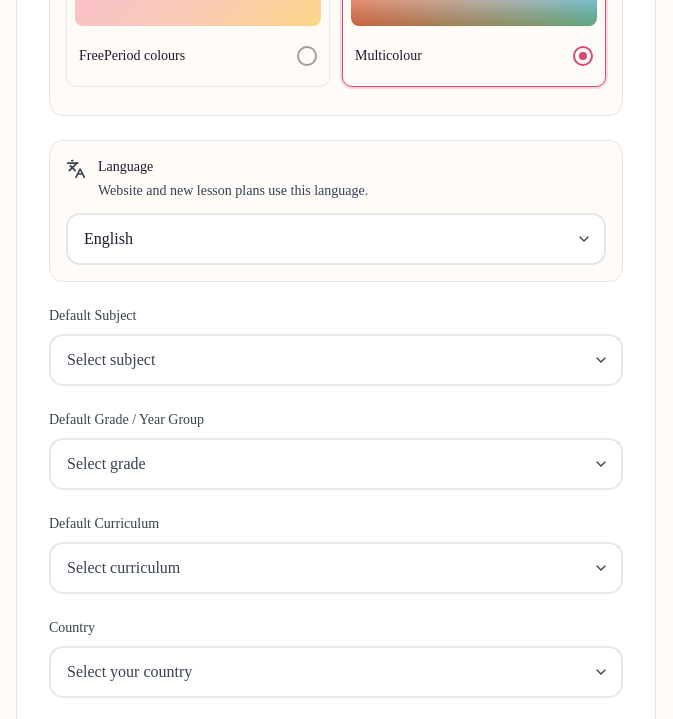
Test: SettingsClient — dirty save › enables Save after a field changes, then disables again after successful save
(page scrolled)
Click the button named "default subject".
click(111, 360)  # box x1=49 y1=334 x2=623 y2=386
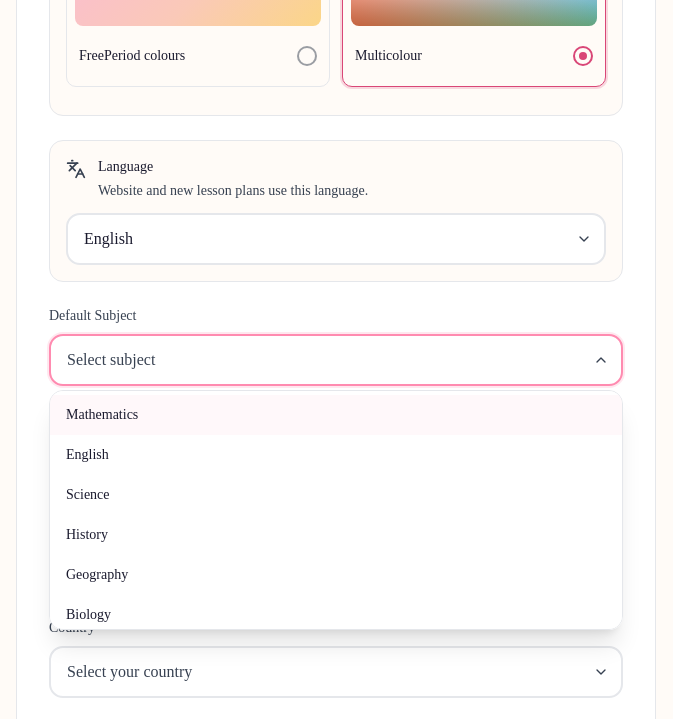
Click the option "Science".
click(88, 494)  # box x1=66 y1=487 x2=110 y2=502
(page scrolled)
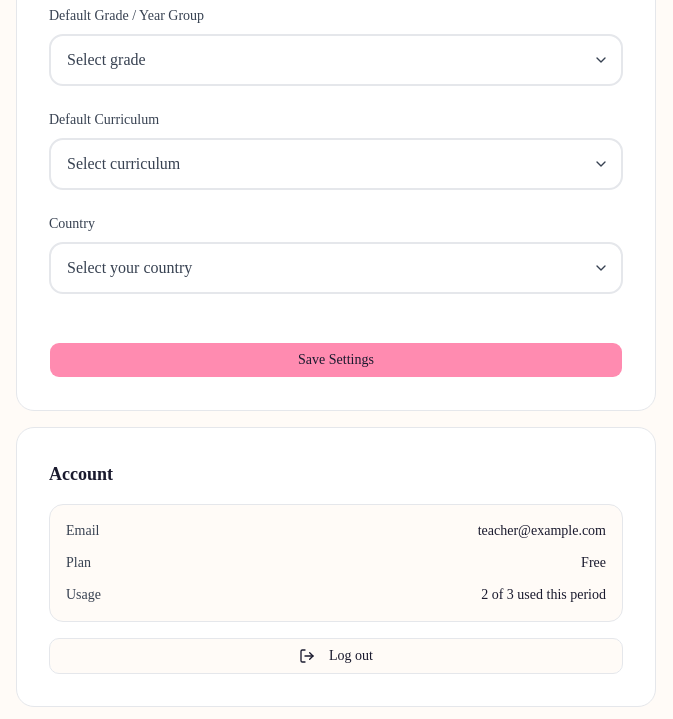
Now the button "Save Settings" is enabled
Click the button "Save Settings".
click(336, 360)  # box x1=49 y1=342 x2=623 y2=378
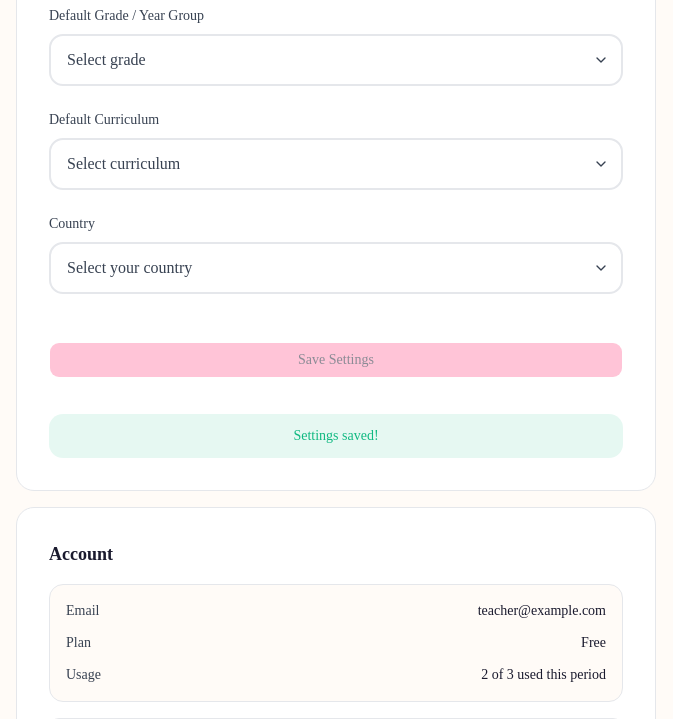
Now the message shows "Settings saved", box x1=293 y1=428 x2=379 y2=443
Now the button "Save Settings" is disabled, box x1=49 y1=342 x2=623 y2=378
